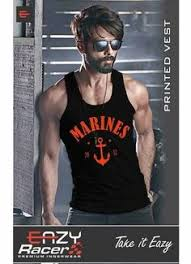Indian_Male: (79, 22, 133, 79)
